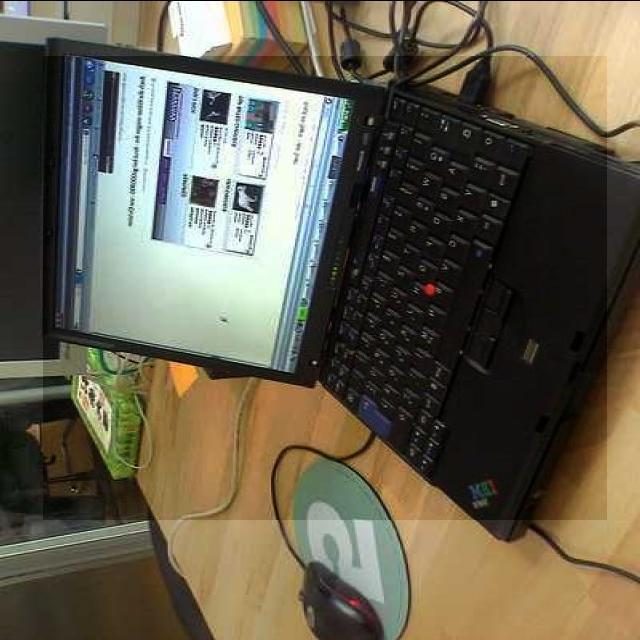-keyboard-: (43, 57, 608, 520)
